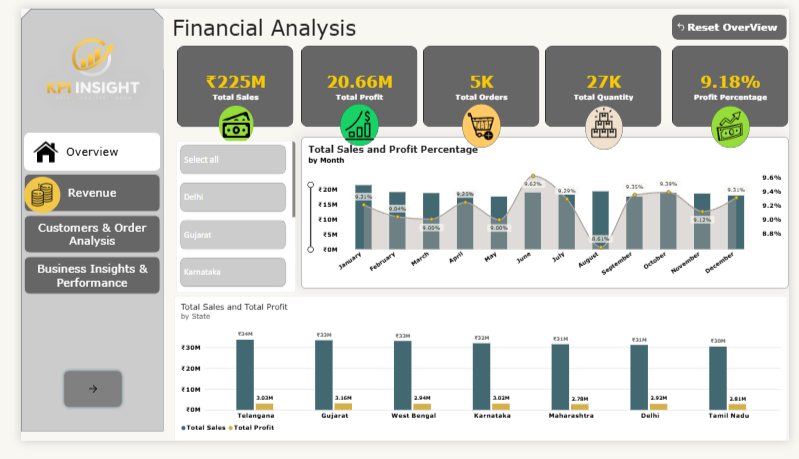

The dashboard page shown, as its layout file describes it:
{"tool":"powerbi","page":{"name":"Overview","canvas":[1920,1080],"ordinal":0},"visuals":[{"type":"shape","box":[0,0,356.4,1056.2],"z":0},{"type":"cardVisual","fields":{"Data":["Sheet.Total Sales"]},"box":[391,92.9,291.6,203],"z":1000},{"type":"cardVisual","fields":{"Data":["Sheet.Total Profit"]},"box":[699.8,92.9,291.6,203],"z":2000},{"type":"cardVisual","fields":{"Data":["Sheet.Total Quantity"]},"box":[1311.1,92.9,291.6,203],"z":3000},{"type":"cardVisual","fields":{"Data":["Sheet.Total Orders"]},"box":[1004.4,92.9,291.6,203],"z":4000},{"type":"cardVisual","fields":{"Data":["Sheet.Profit Percentage"]},"box":[1628.6,92.9,291.6,203],"z":5000},{"type":"lineClusteredColumnComboChart","fields":{"Category":["Sheet.Date.Variation.Date Hierarchy.Month"],"Y":["Sheet.Total Sales"],"Y2":["Sheet.Profit Percentage"]},"box":[699.8,319.7,1220.4,380.2],"z":6000},{"type":"clusteredColumnChart","fields":{"Category":["Sheet.State"],"Y":["Sheet.Total Sales","Sheet.Total Profit"]},"box":[382.5,717.5,1532.5,362.5],"z":7000},{"type":"shape","title":"Financial Analysis","box":[291.6,15.1,630.7,77.8],"z":8000},{"type":"pageNavigator","box":[8.6,311,341.3,406.1],"z":9000},{"type":"actionButton","box":[99.4,898.6,159.8,105.8],"z":10000},{"type":"image","box":[8.6,419,90.7,90.7],"z":11000},{"type":"image","box":[0,319.7,123.1,79.9],"z":12000},{"type":"shape","box":[797,237.6,97.2,105.8],"z":13000},{"type":"shape","box":[1101.6,237.6,97.2,110.2],"z":14000},{"type":"shape","box":[1410.5,241.9,95,110.2],"z":15000},{"type":"shape","box":[1725.8,241.9,97.2,105.8],"z":16000},{"type":"image","box":[810,252.7,73.4,77.8],"z":17000},{"type":"image","box":[1406.2,244.1,103.7,79.9],"z":18000},{"type":"image","box":[494.6,241.9,86.4,95],"z":19000},{"type":"image","box":[1105.9,250.6,92.9,79.9],"z":20000},{"type":"image","box":[1723.7,252.7,99.4,84.2],"z":21000},{"type":"actionButton","box":[1628.6,15.1,287.3,62.6],"z":22000},{"type":"advancedSlicerVisual","fields":{"Values":["Sheet.State"]},"box":[386.6,330.5,300.2,380.2],"z":23000},{"type":"image","box":[8.6,0,347.8,311],"z":24000}]}

Visuals, with their boxes in screenshot pixels (x1, y1, x2, y2), scaled from the page's 1920x1080 canvas onto the 799x459 screenshot:
shape: rect(0, 0, 148, 449)
cardVisual - Sheet.Total Sales: rect(163, 39, 284, 126)
cardVisual - Sheet.Total Profit: rect(291, 39, 413, 126)
cardVisual - Sheet.Total Quantity: rect(546, 39, 667, 126)
cardVisual - Sheet.Total Orders: rect(418, 39, 539, 126)
cardVisual - Sheet.Profit Percentage: rect(678, 39, 798, 126)
lineClusteredColumnComboChart - Sheet.Date.Variation.Date Hierarchy.Month x Sheet.Total Sales: rect(291, 136, 798, 297)
clusteredColumnChart - Sheet.State x Sheet.Total Sales: rect(159, 305, 797, 458)
"Financial Analysis" shape: rect(121, 6, 384, 39)
pageNavigator: rect(4, 132, 146, 305)
actionButton: rect(41, 382, 108, 427)
image: rect(4, 178, 41, 217)
image: rect(0, 136, 51, 170)
shape: rect(332, 101, 372, 146)
shape: rect(458, 101, 499, 148)
shape: rect(587, 103, 627, 150)
shape: rect(718, 103, 759, 148)
image: rect(337, 107, 368, 140)
image: rect(585, 104, 628, 138)
image: rect(206, 103, 242, 143)
image: rect(460, 107, 499, 140)
image: rect(717, 107, 759, 143)
actionButton: rect(678, 6, 797, 33)
advancedSlicerVisual - Sheet.State: rect(161, 140, 286, 302)
image: rect(4, 0, 148, 132)
